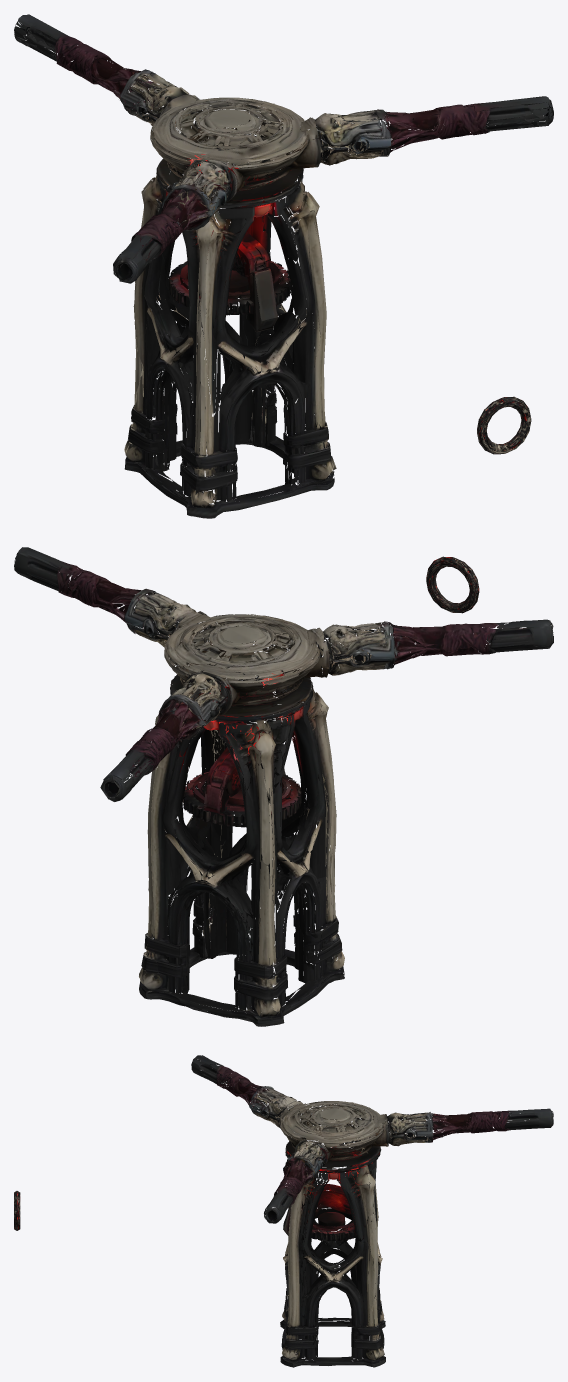
The model's file is evac_boarding_vote_turnstile.glb.
3 views of the same model, one above another, from view 1: azimuth 30°, elevation 25°; view 2: azimuth 150°, elevation 25°; view 3: azimuth 270°, elevation 25° (orthographic). The views are drawn at different scales.
Parts seen in each view (by area): view 1: node_0, HB_ROTOR_00; view 2: node_0, HB_ROTOR_00; view 3: node_0.
Part boxes in pixels (left/top/right/bottom): node_0: left=14, top=14, right=553, bottom=518; HB_ROTOR_00: left=477, top=396, right=531, bottom=454; node_0: left=14, top=547, right=553, bottom=1026; HB_ROTOR_00: left=426, top=556, right=479, bottom=613; node_0: left=191, top=1055, right=553, bottom=1367.
Bounding box in the file's own units: 0.7931 × 0.5517 × 1.17.
1 material, 1 textured.
